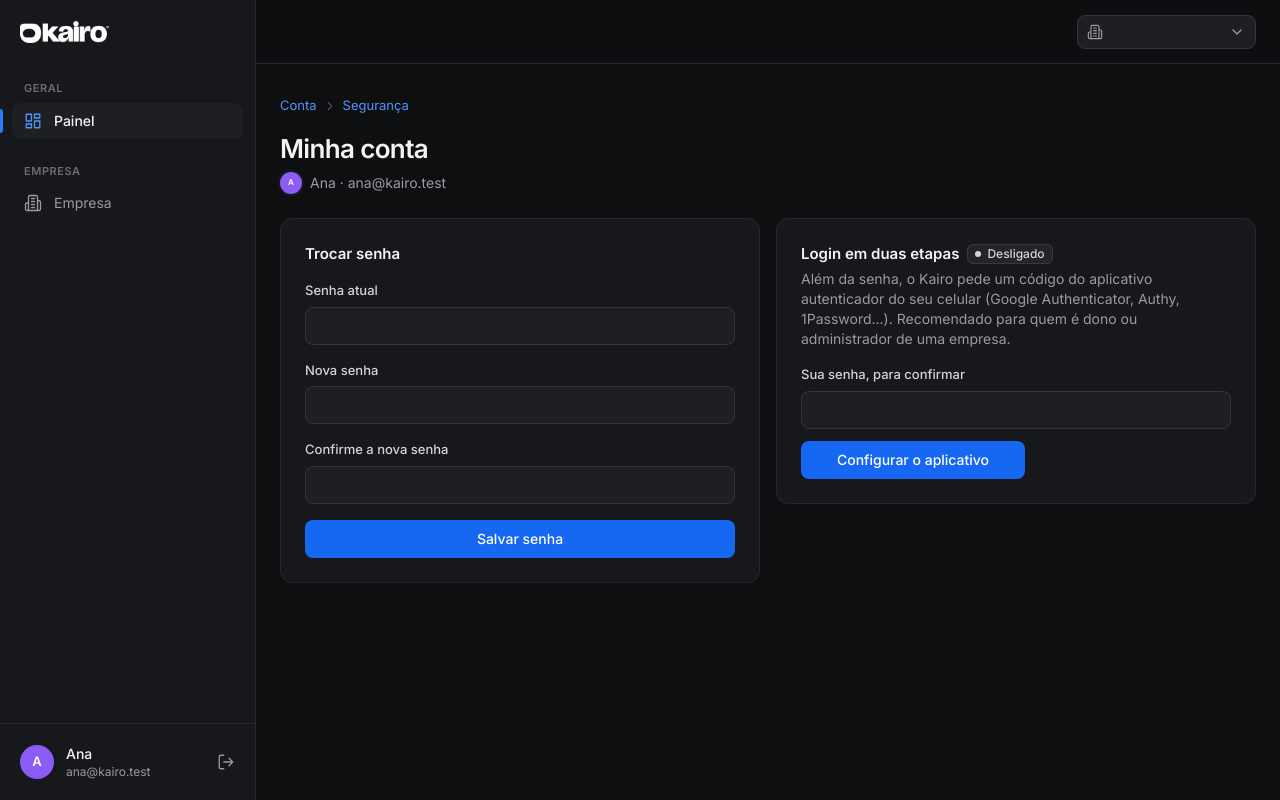
it: AccountView › troca a senha e limpa o formulário
This screenshot has width=1280, height=800.
In the password field with id "current_password": {"x": 520, "y": 326} [305, 307, 735, 345], type "SenhaForte123"
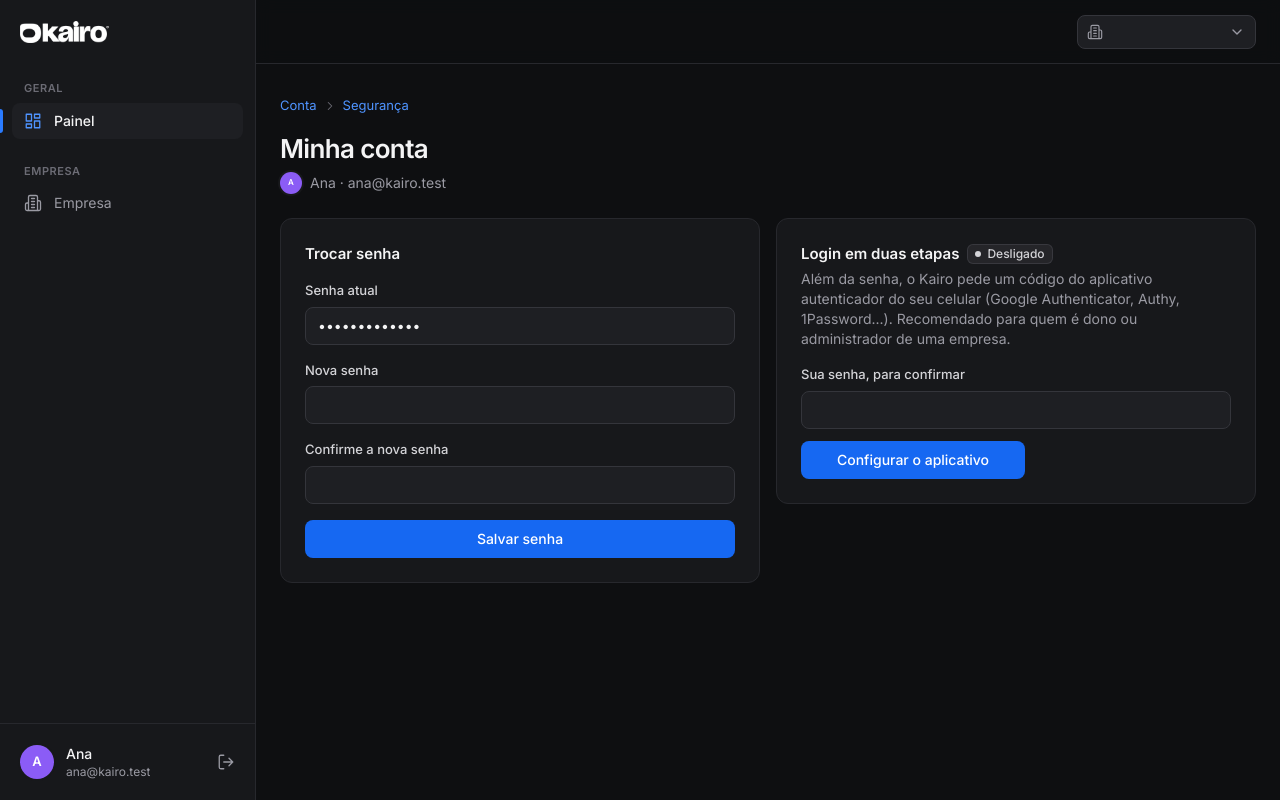
In the password field with id "new_password": {"x": 520, "y": 405} [305, 386, 735, 424], type "NovaSenha456"
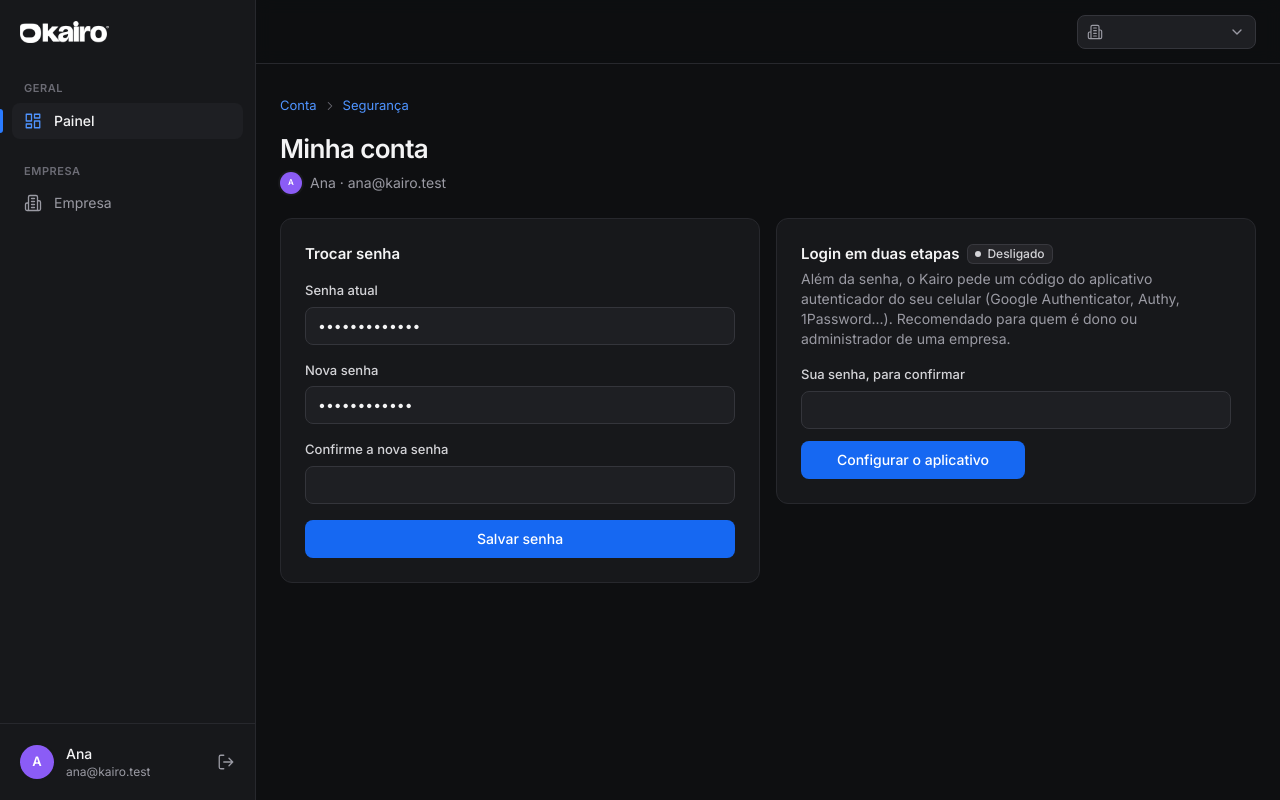
In the password field with id "new_password_confirmation": {"x": 520, "y": 485} [305, 466, 735, 504], type "NovaSenha456"
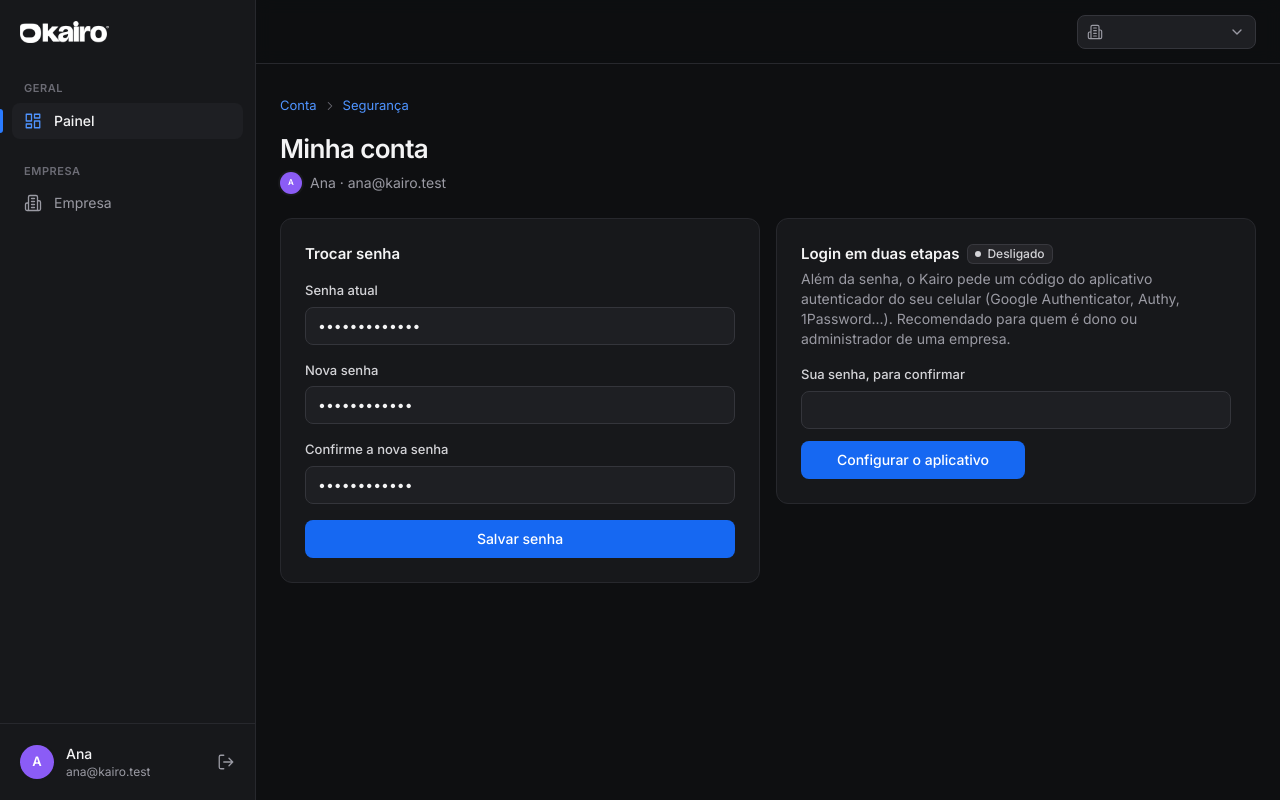
Submit the form with test id "password-form", box [305, 281, 735, 558]
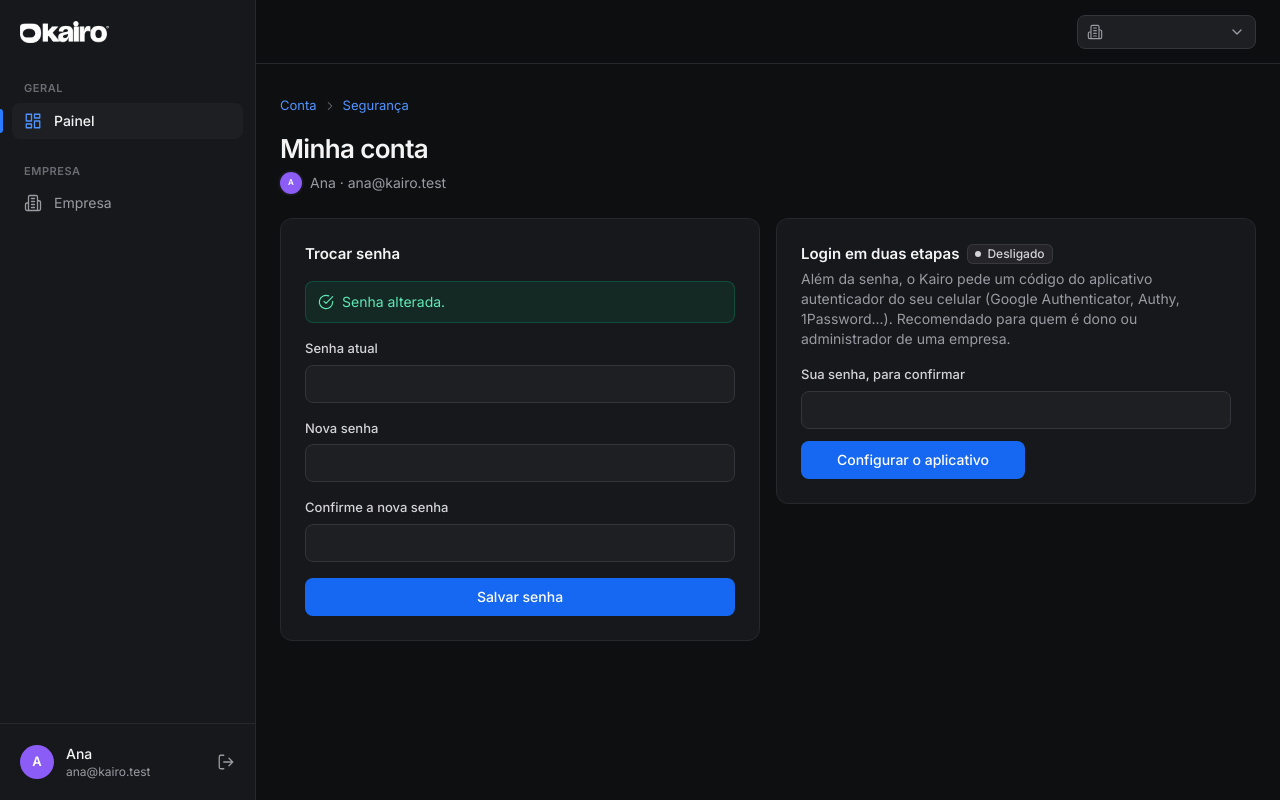
Now the text "Senha alterada." is shown, box [342, 292, 445, 312]
Now the password field with id "current_password" is empty, box [305, 365, 735, 403]
